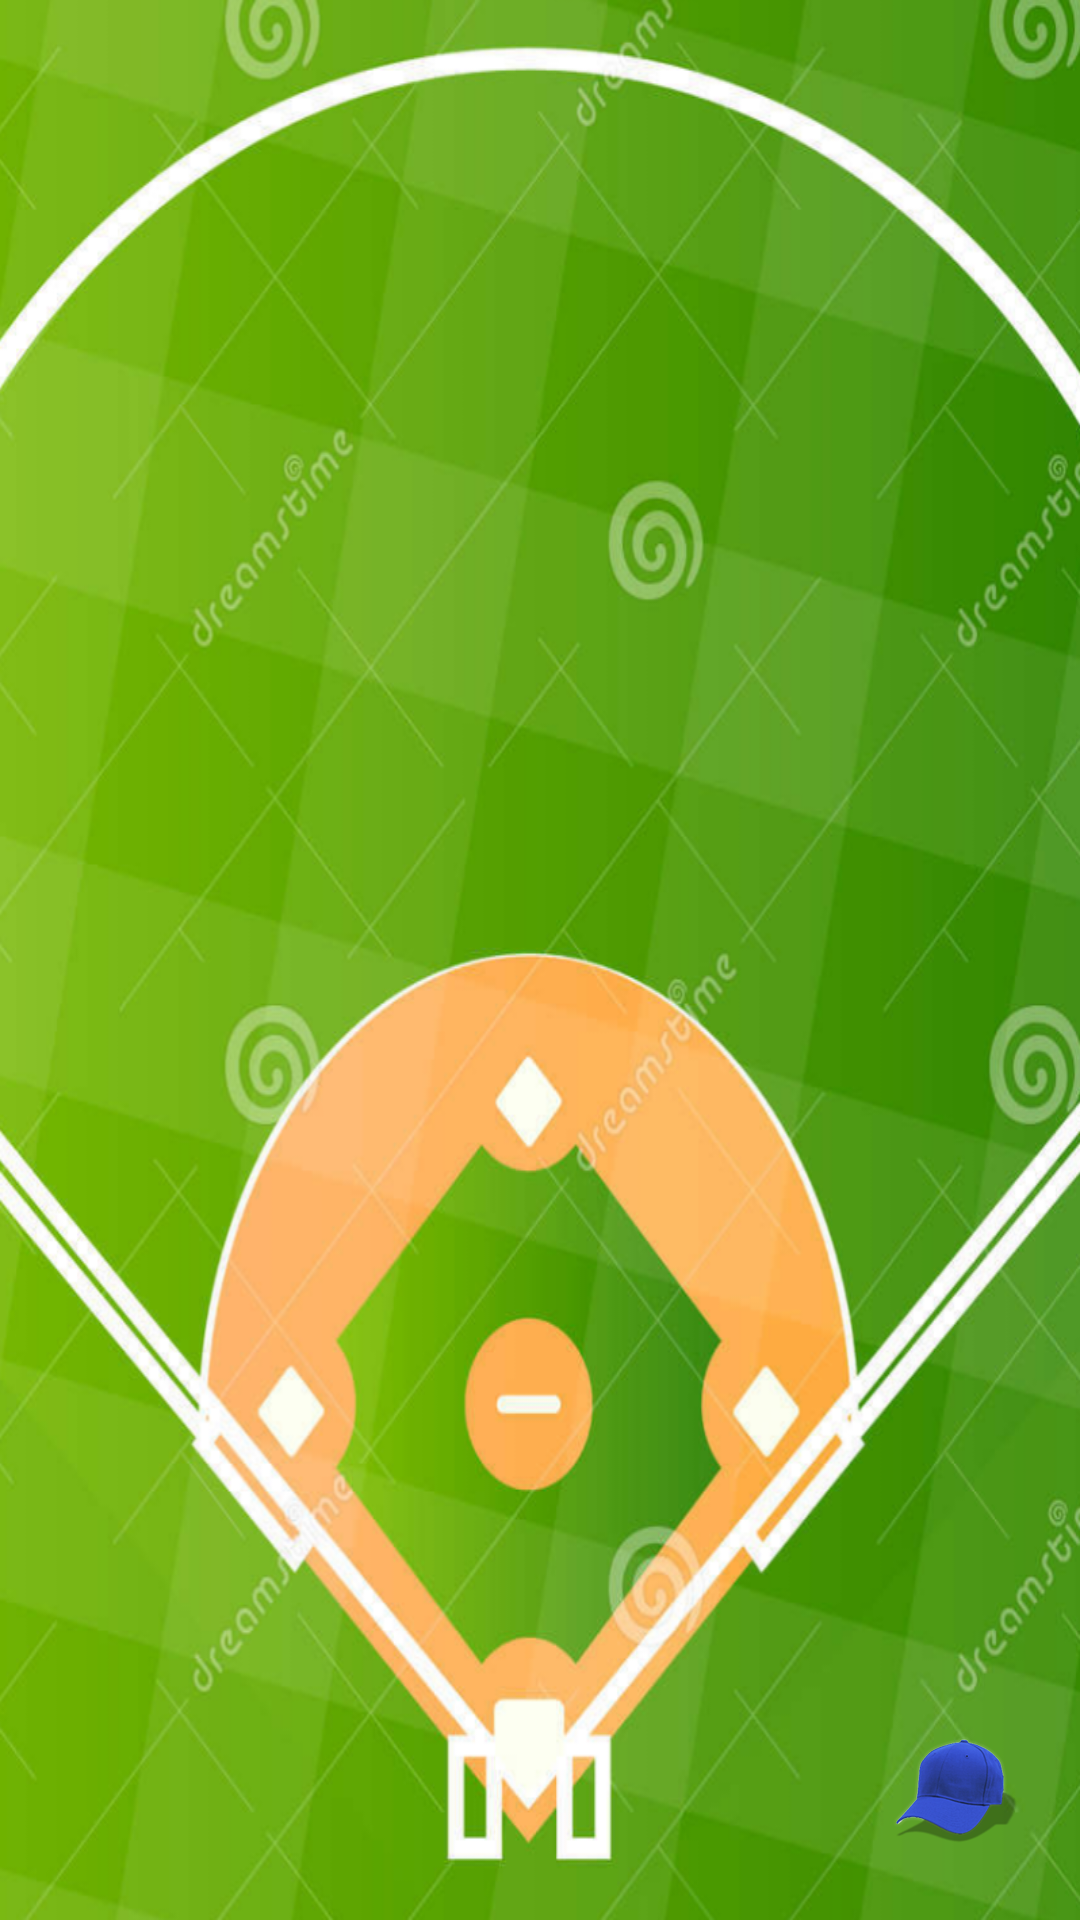

Icon click points for this 1080x1920 phone screenshot, format (x,y):
hat baseball: (956,1786)
